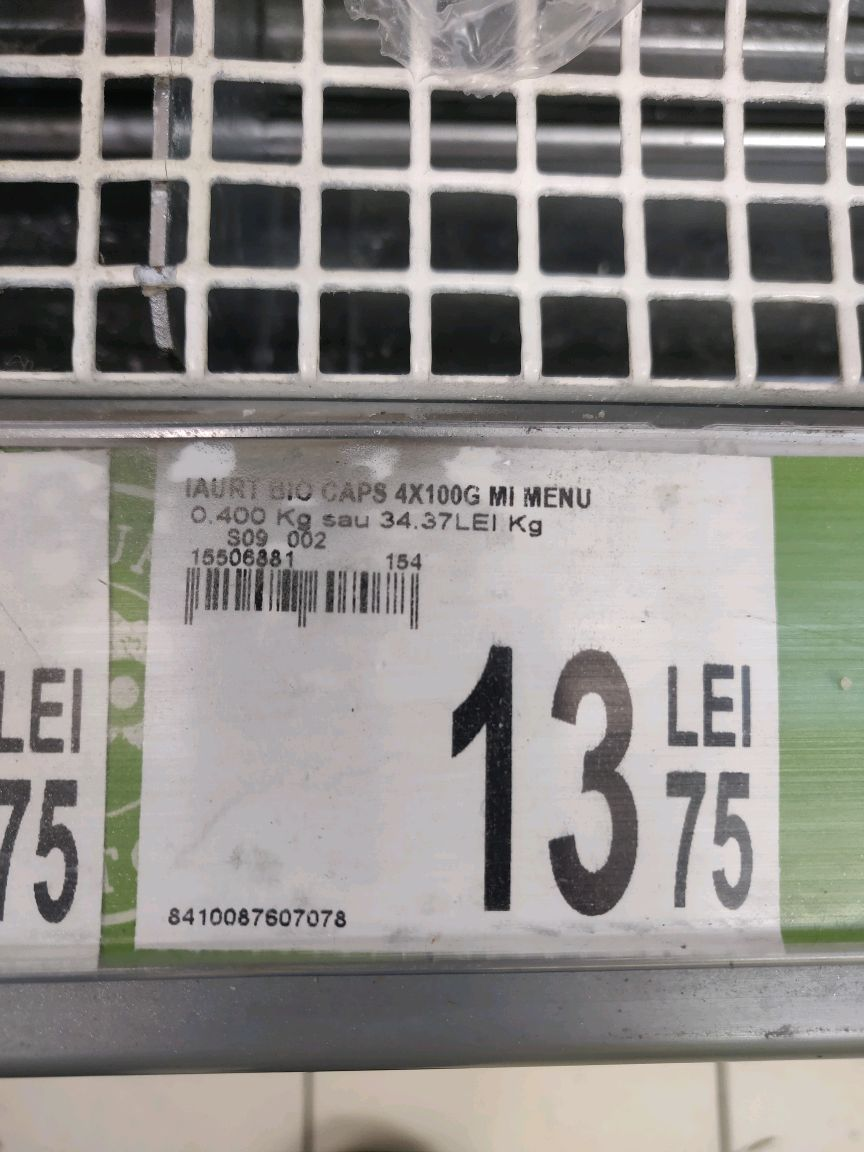price_bani: (657, 768, 773, 922)
price_lei: (439, 634, 652, 929)
price_tag: (132, 421, 793, 975)
product_id: (156, 898, 363, 936)
product_name: (177, 463, 605, 514)
